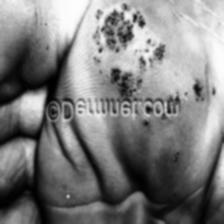Toxin: (91, 4, 147, 54), (182, 76, 218, 106)
